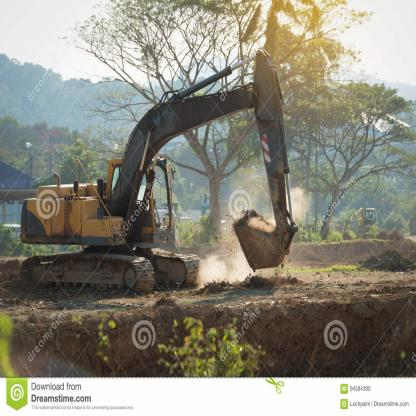excavator: (17, 48, 299, 306)
